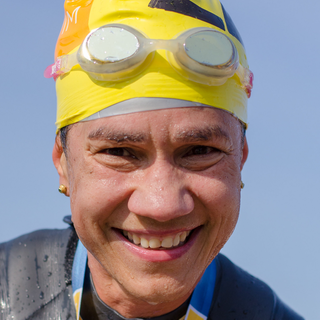eye: (88, 143, 146, 166), (174, 142, 230, 161)
